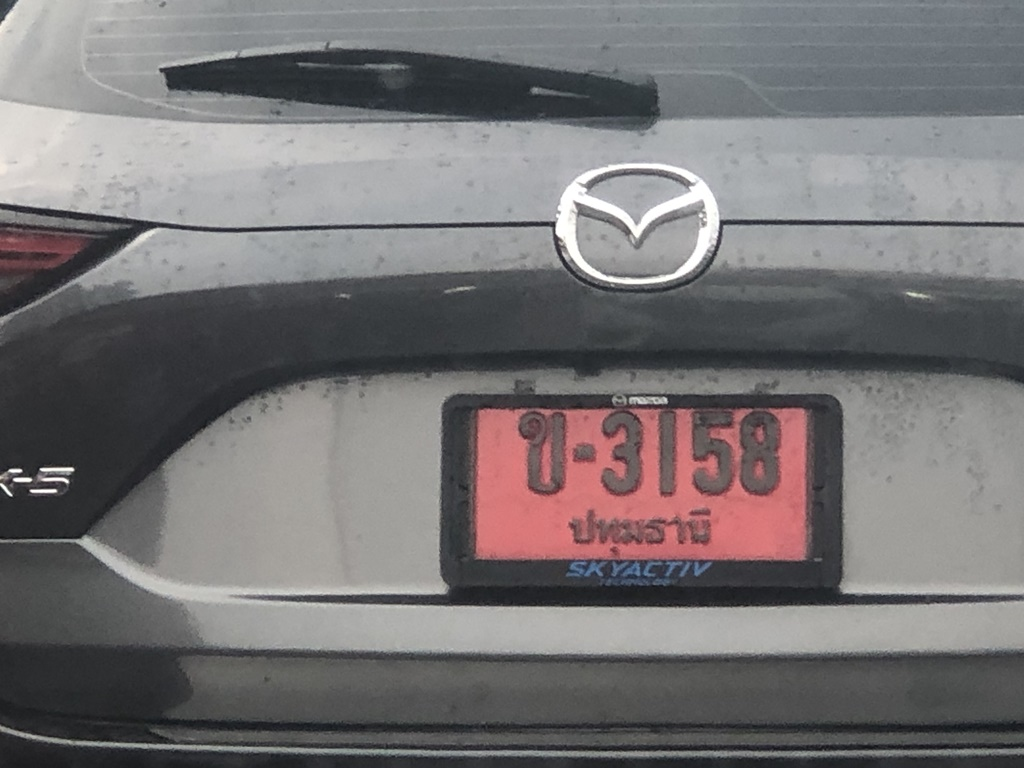eight: (732, 403, 786, 503)
